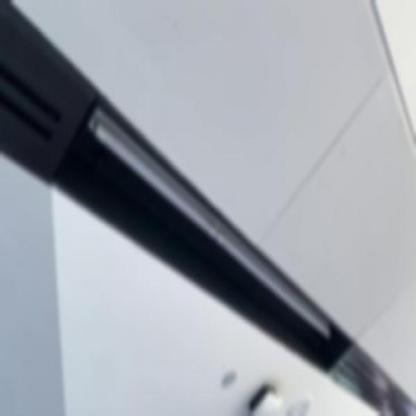light_off: (84, 93, 338, 343)
